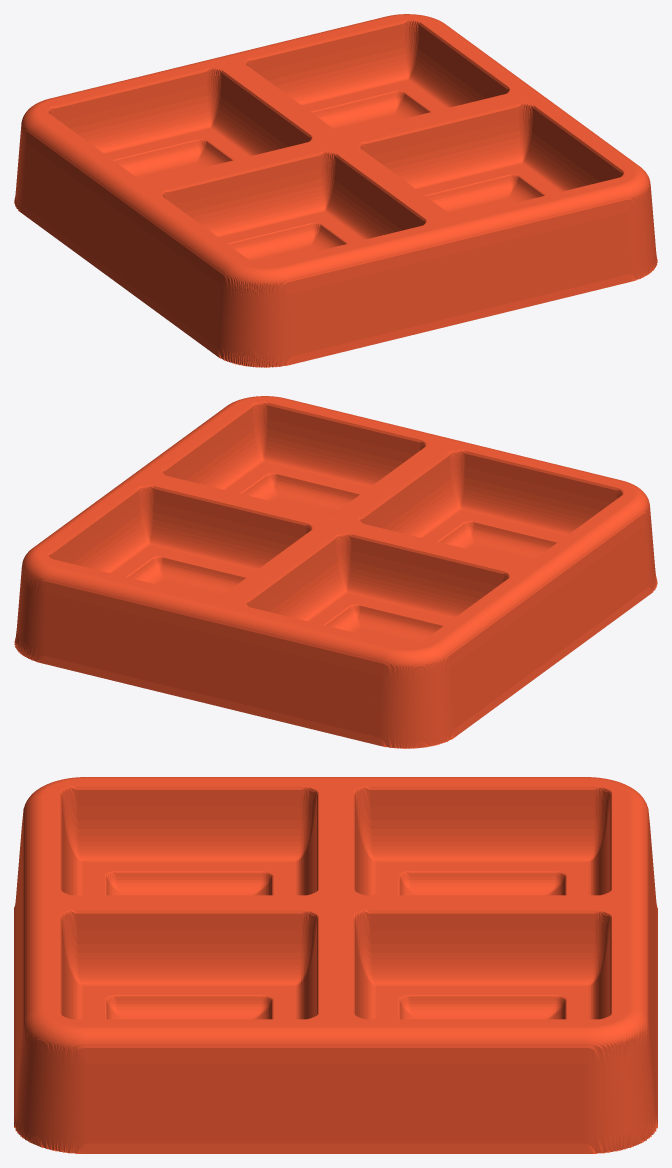
File: mold.glb
3 renders of one model, top to bottom at view 1: azimuth 30°, elevation 25°; view 2: azimuth 150°, elevation 25°; view 3: azimuth 270°, elevation 25°, orthographic. The views are drawn at different scales.
Visible parts, largest first — view 1: geometry_0; view 2: geometry_0; view 3: geometry_0.
Boxes of the visible parts, bbox=[...] form: geometry_0: bbox=[14, 14, 657, 367]; geometry_0: bbox=[14, 396, 657, 748]; geometry_0: bbox=[14, 777, 657, 1153].
Bounding box in the file's own units: 0.0808 × 0.0159 × 0.0808.
